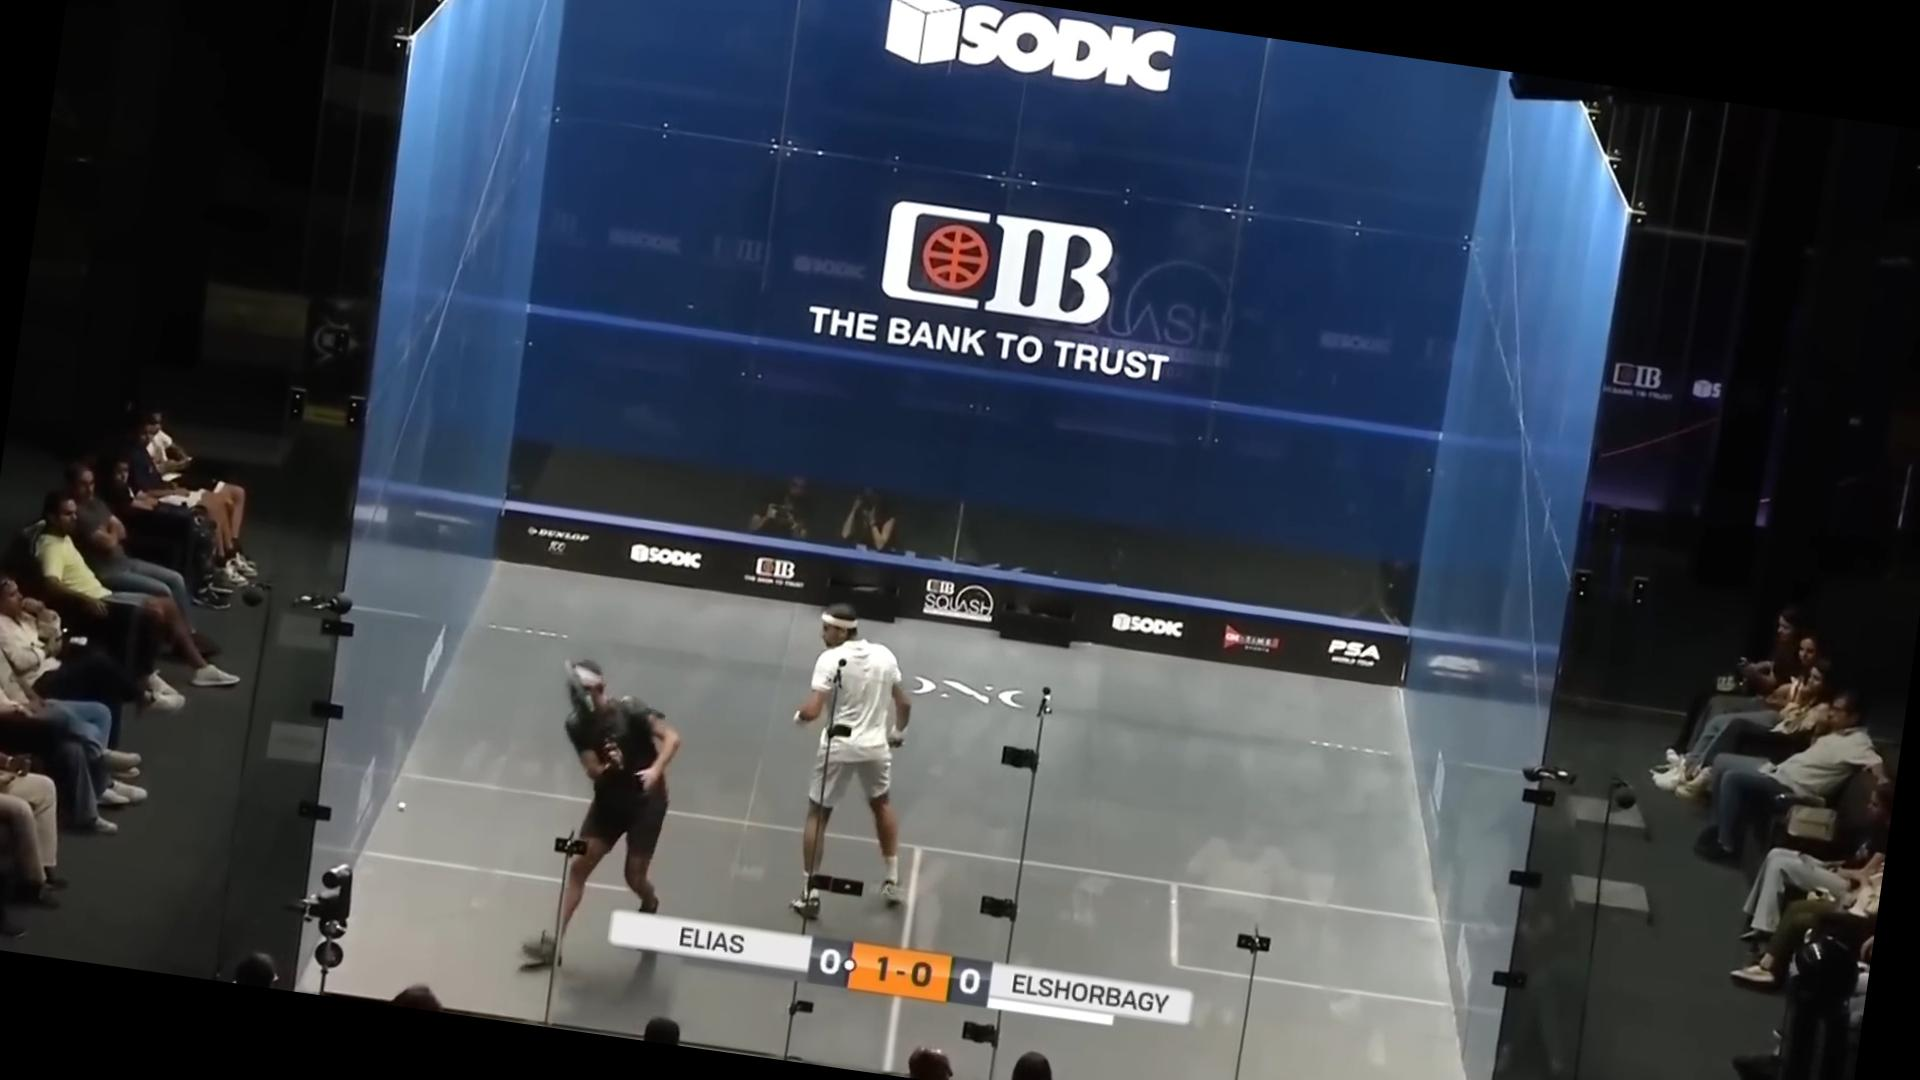Squash-Ball: (378, 778, 425, 841)
